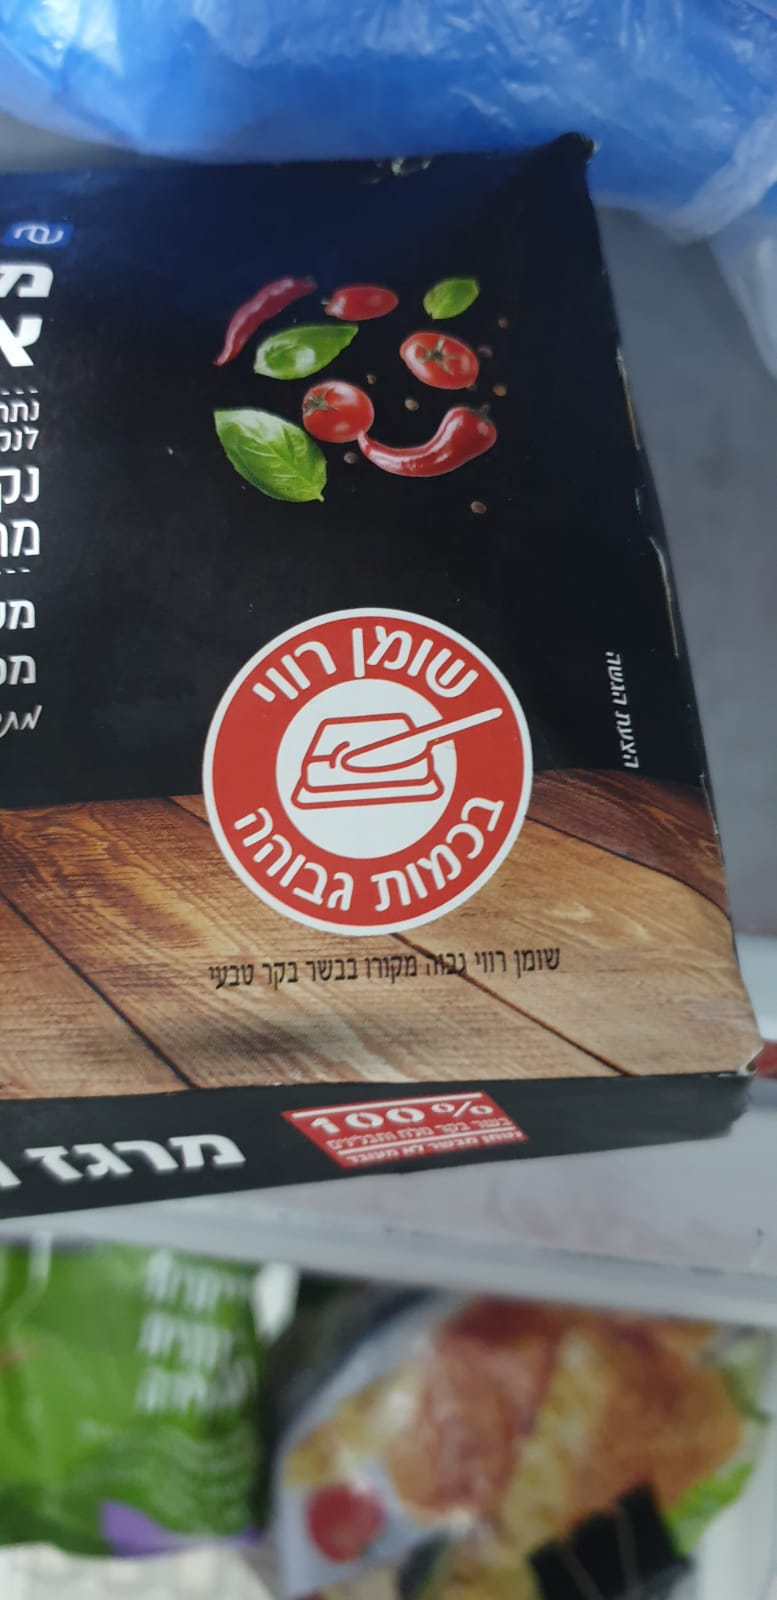fat: (199, 606, 534, 940)
